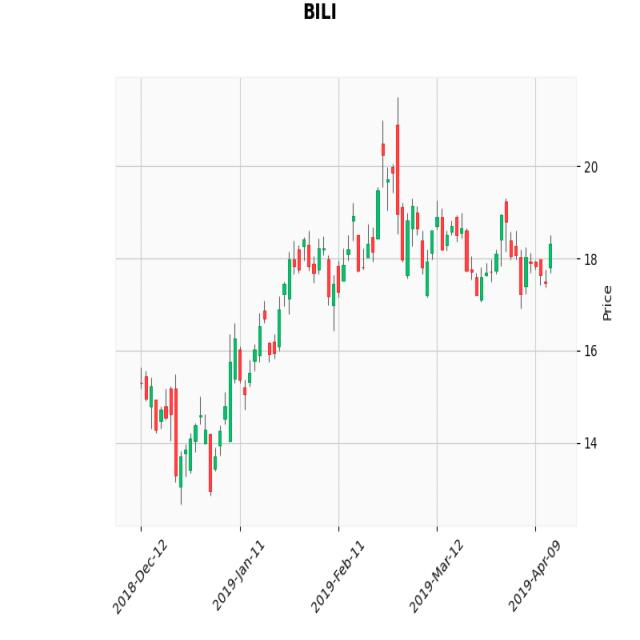Head-Shoulders: (272, 93, 537, 330)
